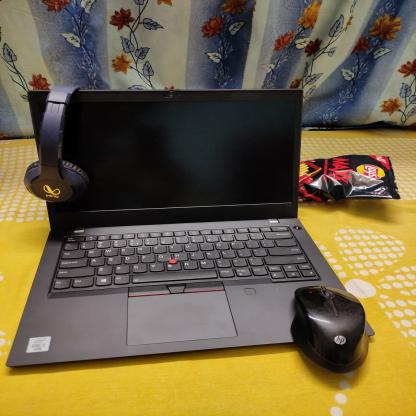max_chili: (299, 152, 401, 200)
